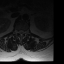CCS_normal: (20, 28, 22, 37)
LFS_normal: (24, 29, 26, 34)
LLS_normal: (22, 29, 24, 36)
RFS_normal: (17, 28, 18, 34)
RLS_normal: (18, 29, 20, 35)
